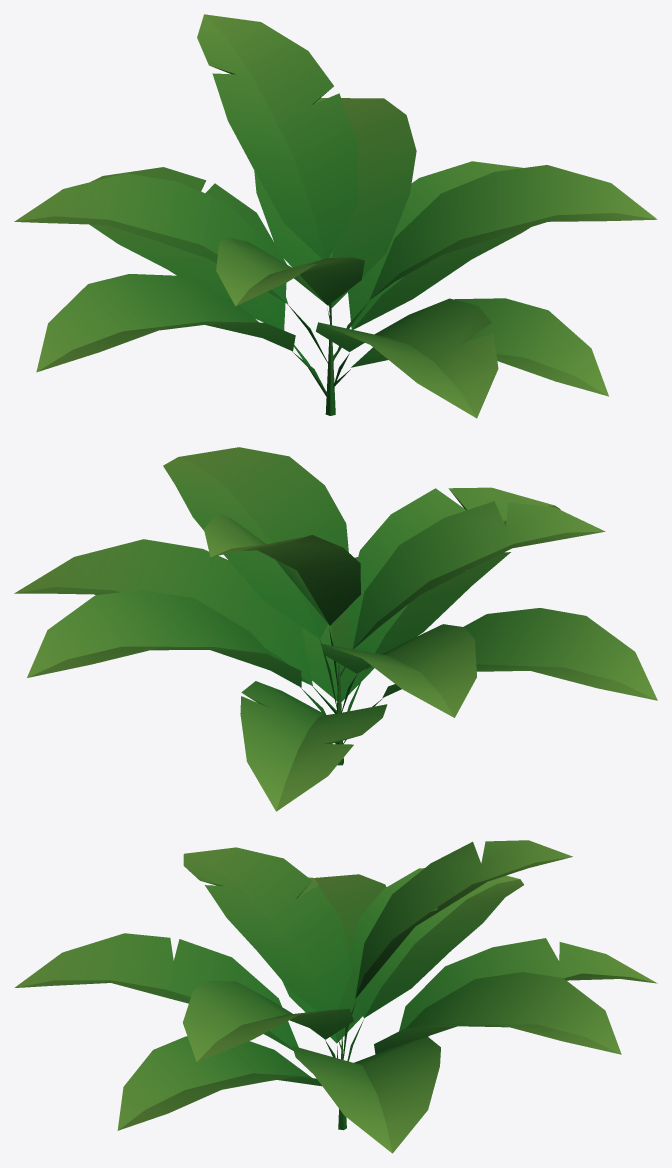
Rendered from Plant_01.fbx.
3 views of the same model, one above another, from view 1: azimuth 30°, elevation 25°; view 2: azimuth 150°, elevation 25°; view 3: azimuth 270°, elevation 25° (orthographic). The views are drawn at different scales.
Parts seen in each view (by area): view 1: Plant_01; view 2: Plant_01; view 3: Plant_01.
Part boxes in pixels (x1=…): Plant_01: x1=14, y1=14, x2=657, y2=418; Plant_01: x1=14, y1=447, x2=657, y2=811; Plant_01: x1=14, y1=840, x2=657, y2=1153.
Bounding box in the file's own units: 93.37 × 44.66 × 94.7.
